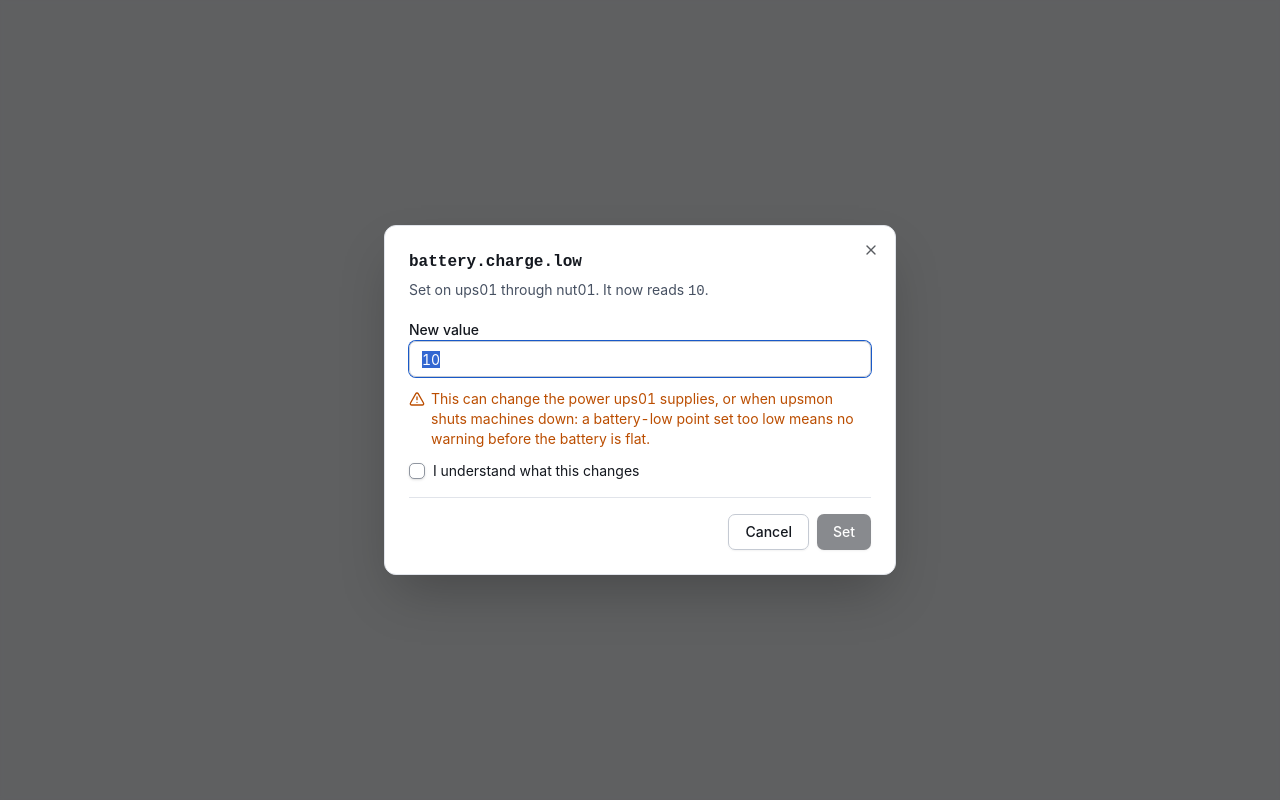
UpsVariableDialog › sets a power setting once confirmed and shows how it went
This screenshot has width=1280, height=800.
Step 1. Replace the text in the field labelled "New value" with "20" → (640, 359), box [409, 341, 871, 377]
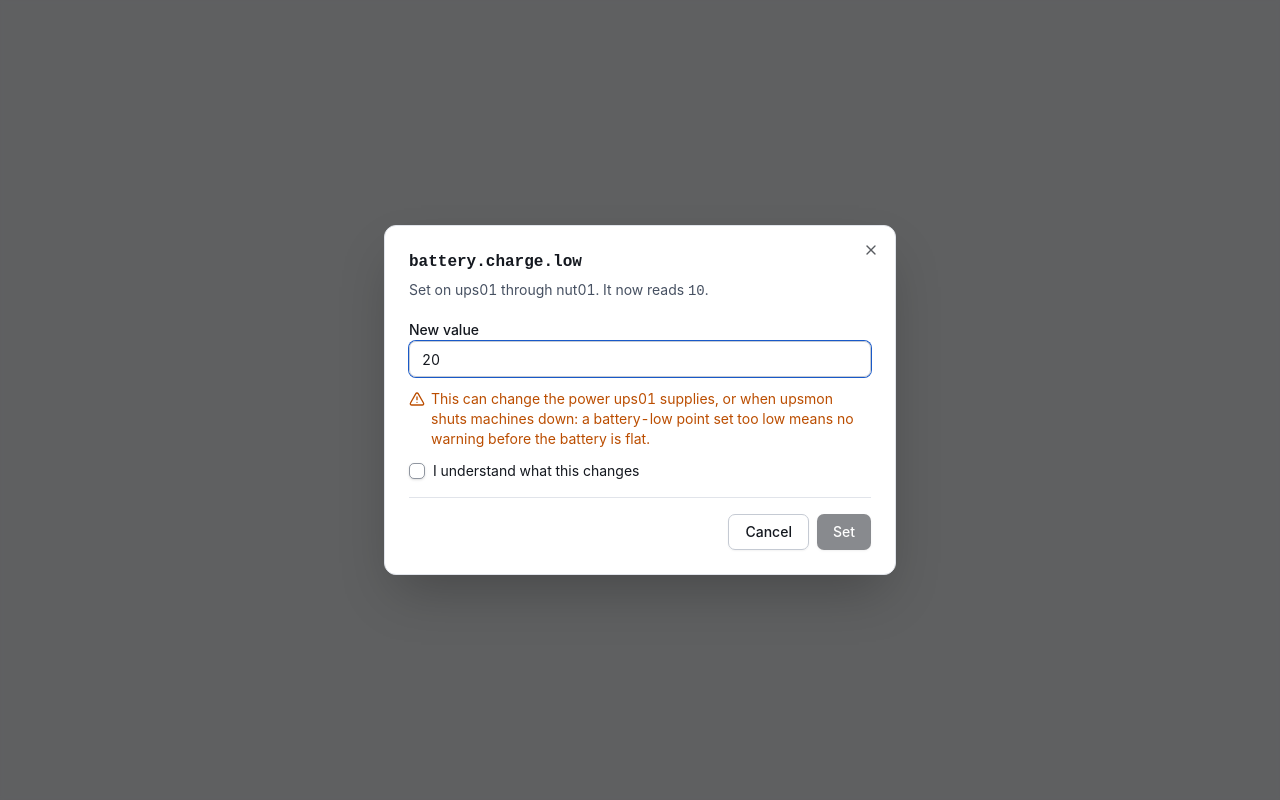
Expected: the button "Set" is disabled, [817, 514, 871, 550]
Step 2. Click the checkbox → (417, 471), box [409, 463, 425, 479]
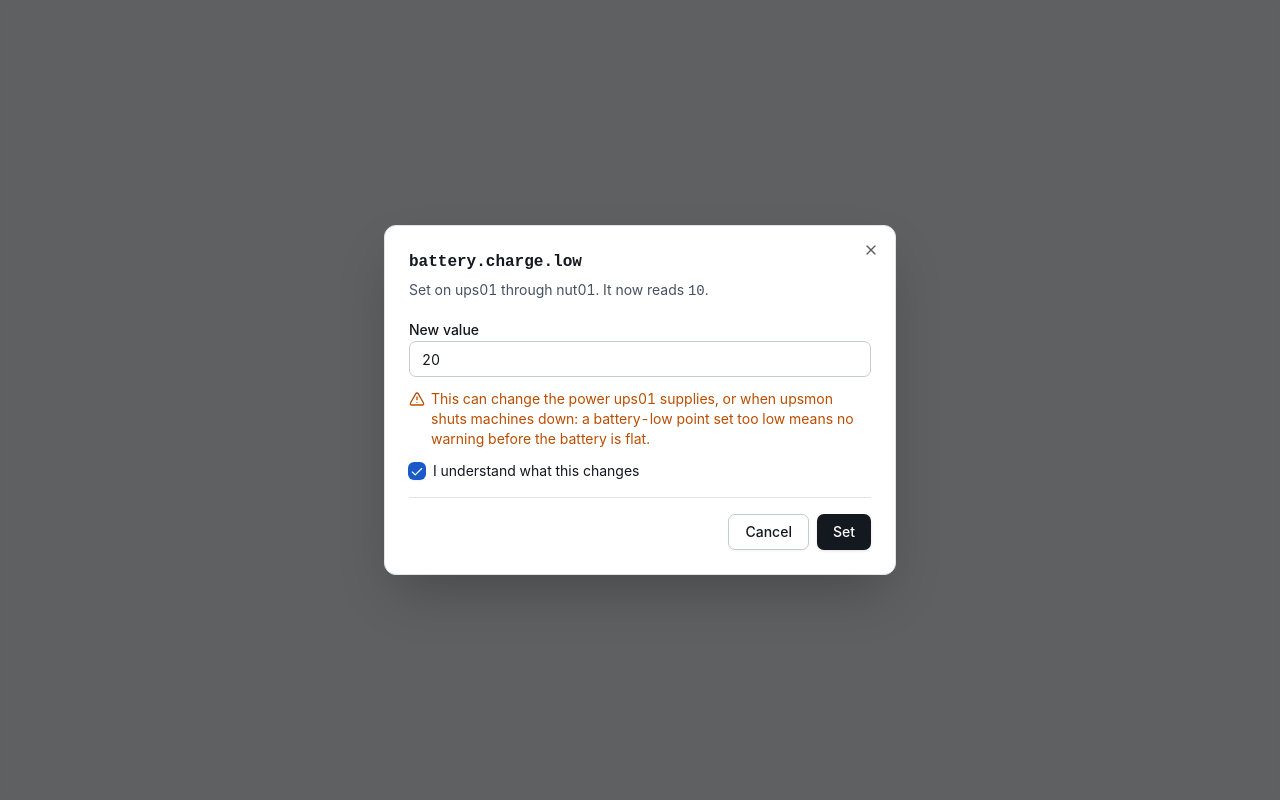
Step 3. Click the button "Set" → (844, 532), box [817, 514, 871, 550]
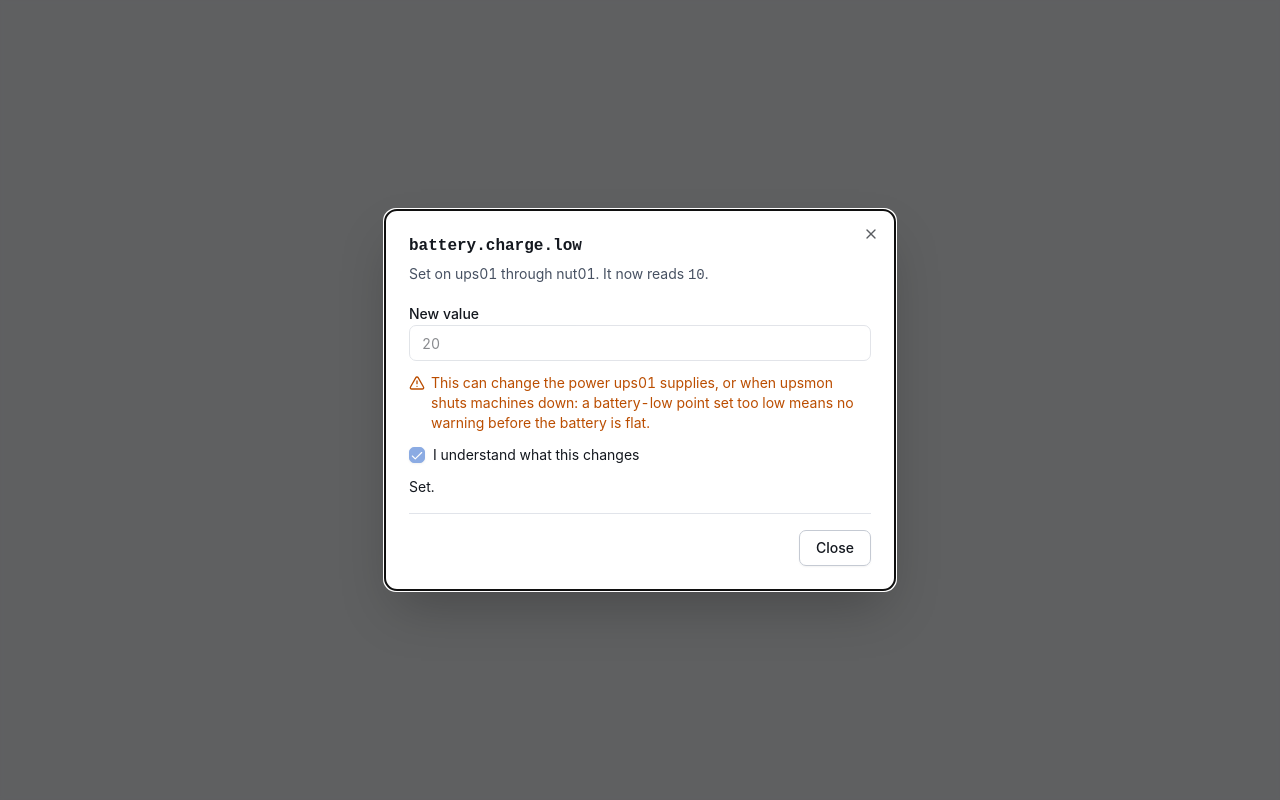
Result: the message reads "Set." at [409, 478, 434, 495]
